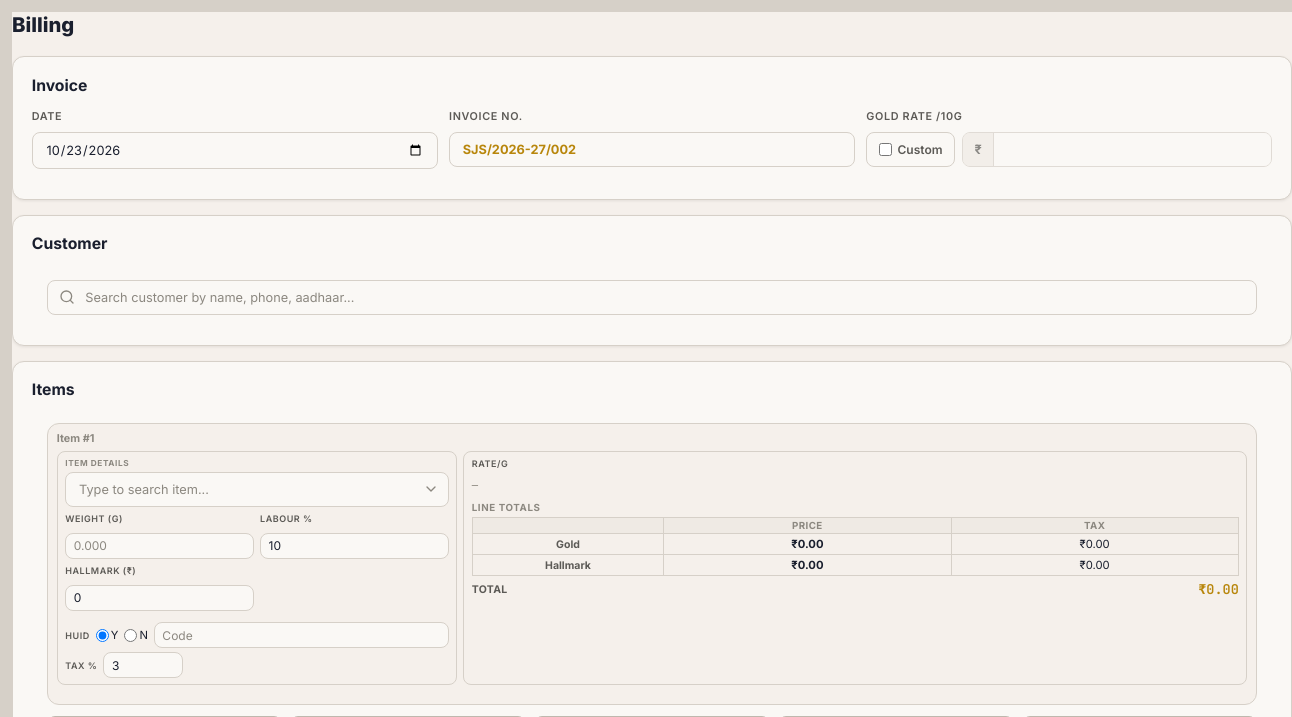
Test: BillingPage edit-save (regression: items deleted after insert) › filters the customer search dropdown while typing
Type "rohi" into the field with placeholder "Search customer by name, phone, aadhaar..." at (652, 297), box [47, 280, 1257, 314]
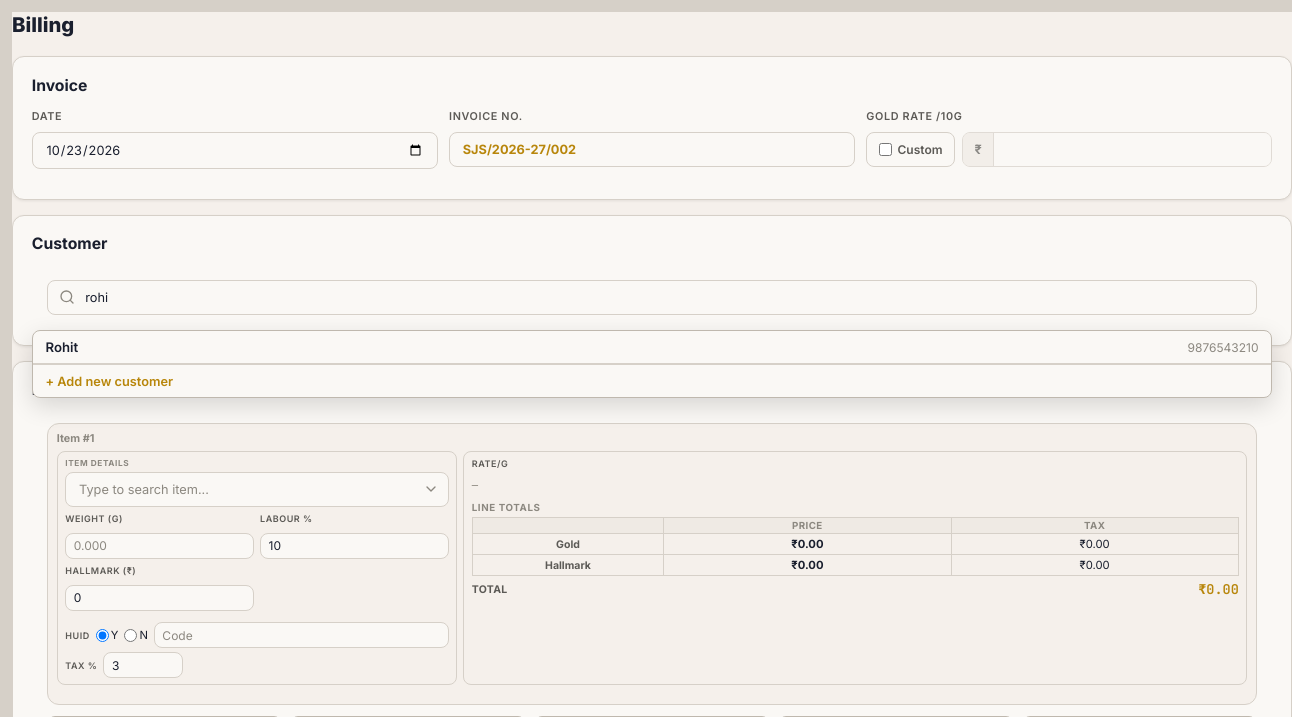
expect the text "Rohit" is shown: met, box [46, 339, 78, 355]
expect the text "+ Add new customer" is shown: met, box [33, 364, 1271, 397]
